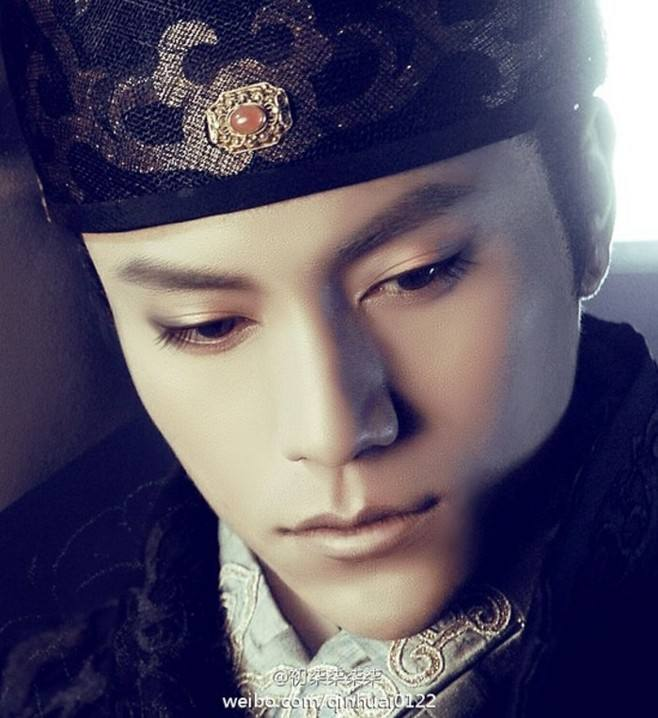person: (27, 53, 557, 632)
